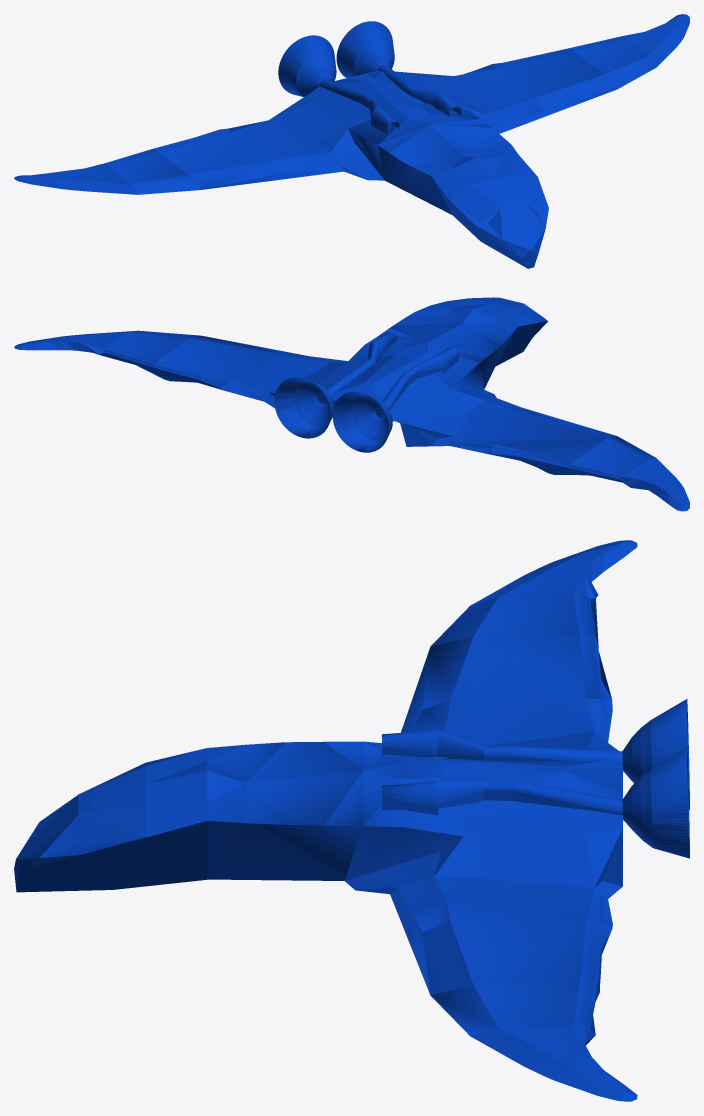
File: ship_demo.obj
3 views of the same model, one above another, from view 1: azimuth 30°, elevation 25°; view 2: azimuth 150°, elevation 25°; view 3: azimuth 270°, elevation 25° (orthographic). The views are drawn at different scales.
Parts seen in each view (by area): view 1: Body-1_Cube, Body-1.002_Cube.002; view 2: Body-1_Cube, Body-1.002_Cube.002; view 3: Body-1_Cube, Body-1.002_Cube.002.
Part boxes in pixels (x1,y1,x2,y2): Body-1_Cube: [14, 14, 689, 268]; Body-1.002_Cube.002: [432, 155, 545, 223]; Body-1_Cube: [14, 298, 689, 511]; Body-1.002_Cube.002: [433, 297, 543, 326]; Body-1_Cube: [14, 540, 689, 1101]; Body-1.002_Cube.002: [78, 748, 206, 848].
Bounding box in the file's own units: 23.83 × 3.22 × 12.13.
